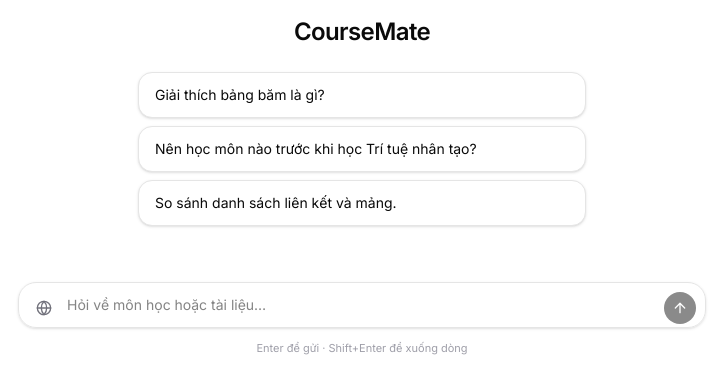
Test: ChatPage streaming › shows the thinking indicator until the first token arrives
Type "bảng băm" into the text box with placeholder "Hỏi về môn học hoặc tài liệu…".
click(362, 305); type("bảng băm")  # box [18,282,706,328]
Then press Enter
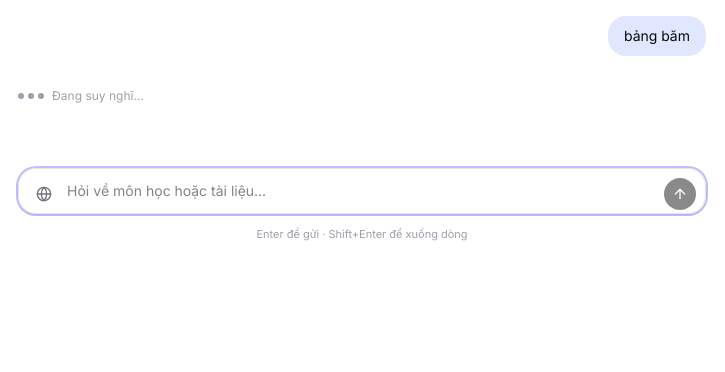
Expected: the text "Đang suy nghĩ…" is shown, [52,88,144,104]
